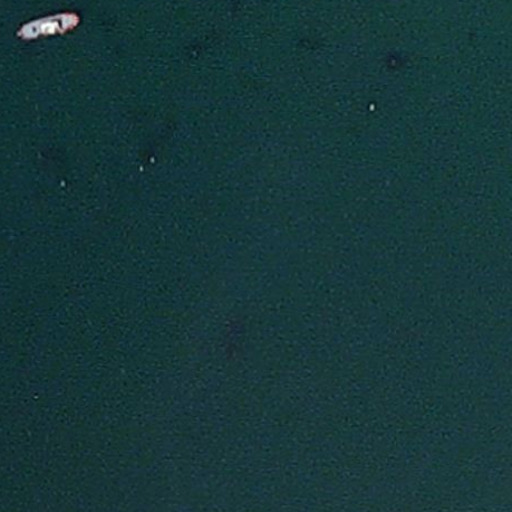ship: (12, 8, 84, 46)
